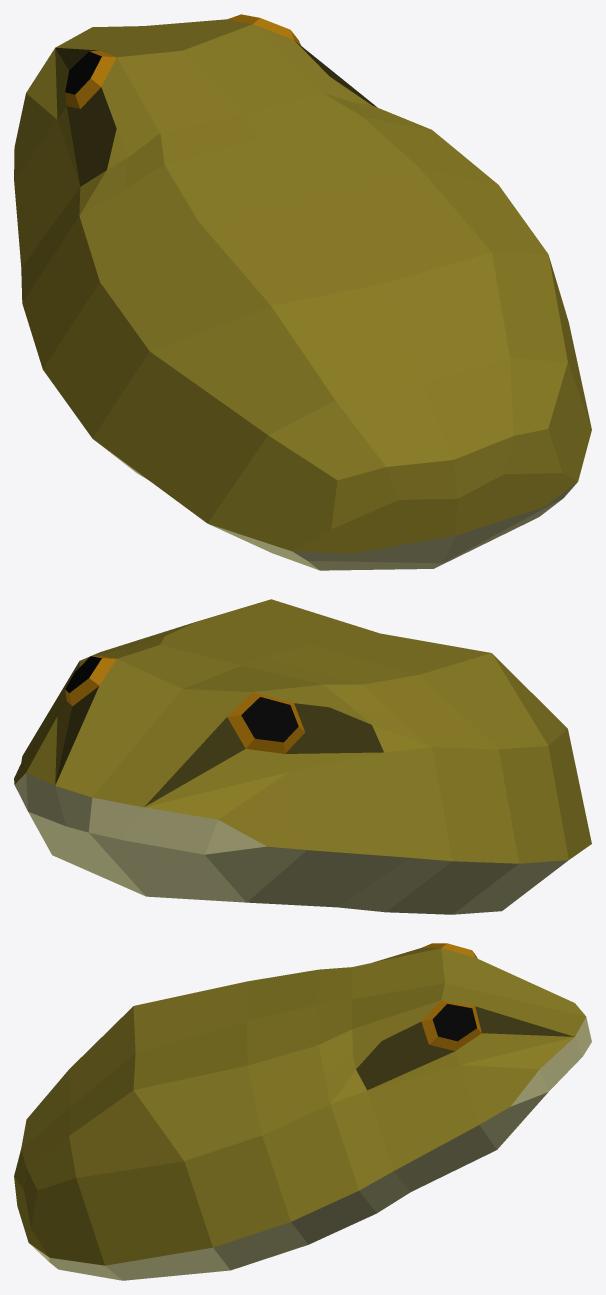
Rendered from keha.fbx.
3 renders of one model, top to bottom at view 1: azimuth 30°, elevation 25°; view 2: azimuth 150°, elevation 25°; view 3: azimuth 270°, elevation 25°, orthographic. The views are drawn at different scales.
Visible parts, largest first — view 1: keha; view 2: keha; view 3: keha.
Boxes of the visible parts, x1=… form: keha: x1=14, y1=14, x2=591, y2=570; keha: x1=14, y1=599, x2=591, y2=914; keha: x1=14, y1=943, x2=591, y2=1280.
Size of the model in its own units: 32.76 by 23.09 by 43.99.
